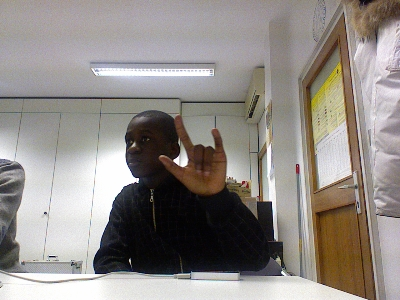我爱你: (157, 113, 227, 196)
